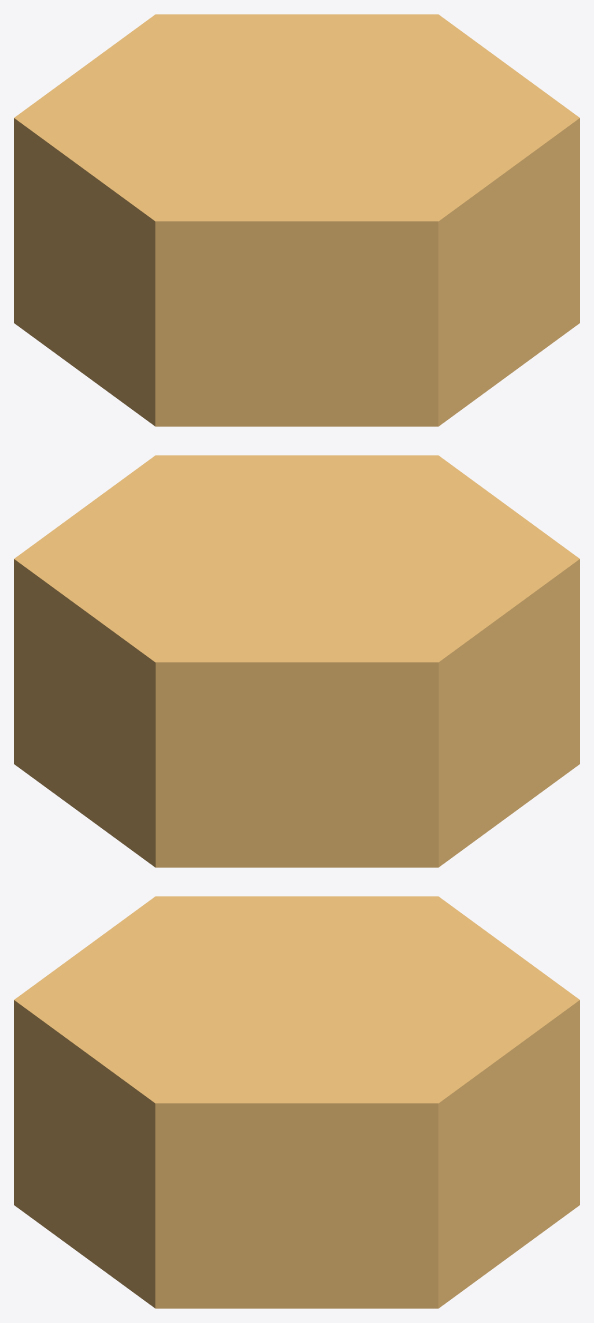
3 views of the same model, one above another, from view 1: azimuth 30°, elevation 25°; view 2: azimuth 150°, elevation 25°; view 3: azimuth 270°, elevation 25° (orthographic).
Parts seen in each view (by area): view 1: WoodenWallInsideTall; view 2: WoodenWallInsideTall; view 3: WoodenWallInsideTall.
Boxes of the visible parts, x1,y1,x2,y2 form: WoodenWallInsideTall: (14, 14, 579, 426); WoodenWallInsideTall: (14, 455, 579, 867); WoodenWallInsideTall: (14, 896, 579, 1308).
Bounding box in the file's own units: 1.73 × 0.8 × 2.
Materials: 1 (1 with a texture image).
